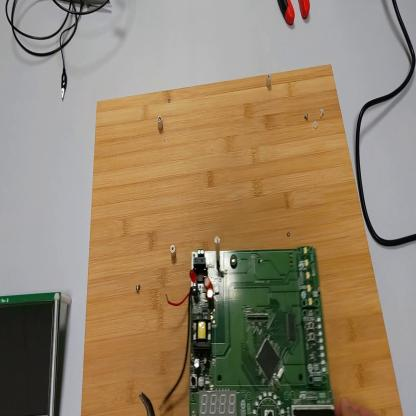hand: (341, 395, 376, 416)
low voltage board: (161, 234, 335, 414)
oscilloscope probe tip: (62, 1, 112, 9)
pliers: (279, 1, 313, 27), (141, 393, 157, 415)
working area: (81, 63, 403, 415)
